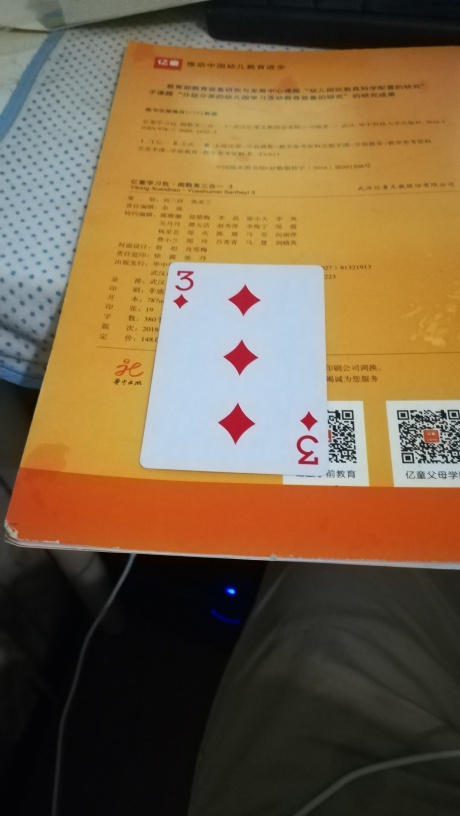fk 3: (131, 261, 330, 482)
